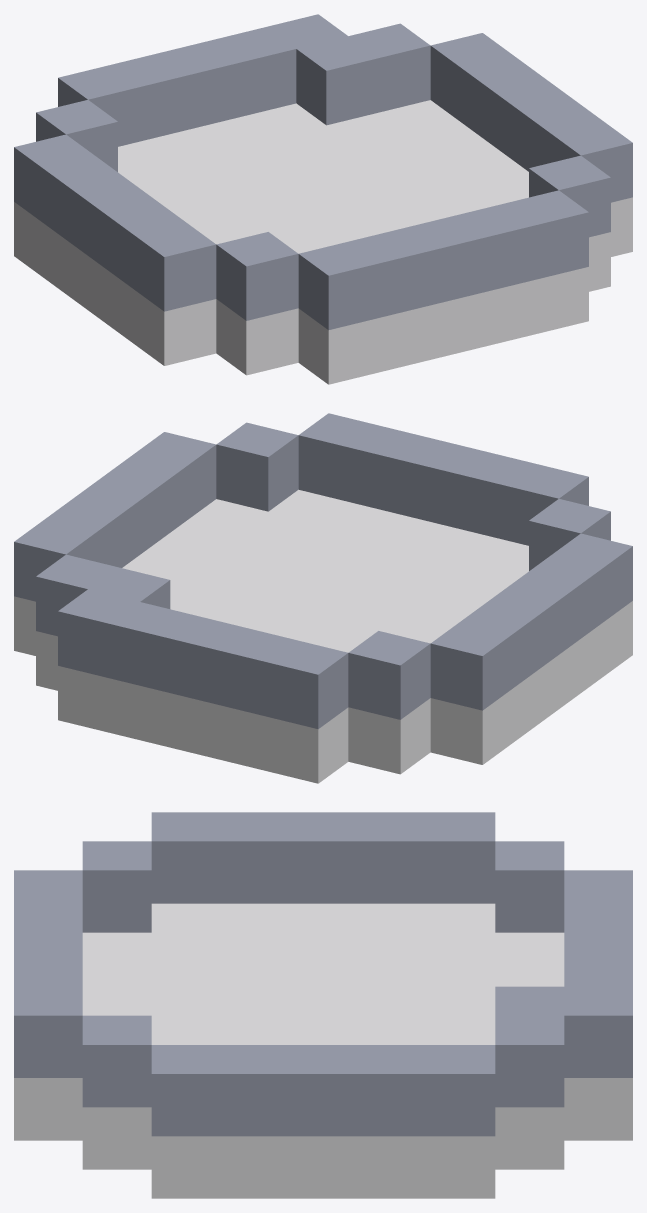
File: Medieval Assets-241-Decoration - Table - Plate.obj
3 renders of one model, top to bottom at view 1: azimuth 30°, elevation 25°; view 2: azimuth 150°, elevation 25°; view 3: azimuth 270°, elevation 25°, orthographic. The views are drawn at different scales.
Parts seen in each view (by area): view 1: Decoration - Table - Plate; view 2: Decoration - Table - Plate; view 3: Decoration - Table - Plate.
Boxes of the visible parts, x1,y1,x2,y2 form: Decoration - Table - Plate: (14, 14, 632, 384); Decoration - Table - Plate: (14, 413, 632, 783); Decoration - Table - Plate: (14, 812, 632, 1198).
Bounding box in the file's own units: 0.9 × 0.2 × 0.9.
Materials: 1 (1 with a texture image).
